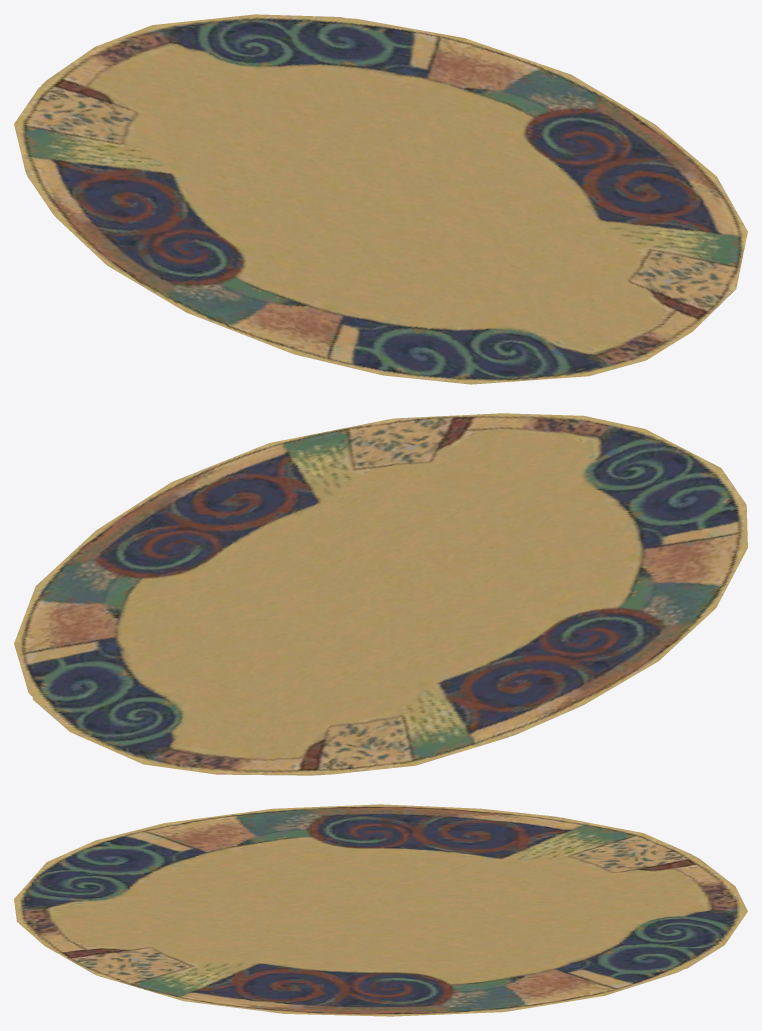
File: frn_mdrn_rug_oval_m_s02.fbx
3 views of the same model, one above another, from view 1: azimuth 30°, elevation 25°; view 2: azimuth 150°, elevation 25°; view 3: azimuth 270°, elevation 25° (orthographic). The views are drawn at different scales.
Parts seen in each view (by area): view 1: mesh_node; view 2: mesh_node; view 3: mesh_node.
Boxes of the visible parts, x1,y1,x2,y2 form: mesh_node: (14,14,747,384); mesh_node: (14,413,747,775); mesh_node: (14,804,747,1016).
Size of the model in its own units: 3.98 by 0 by 5.82.
